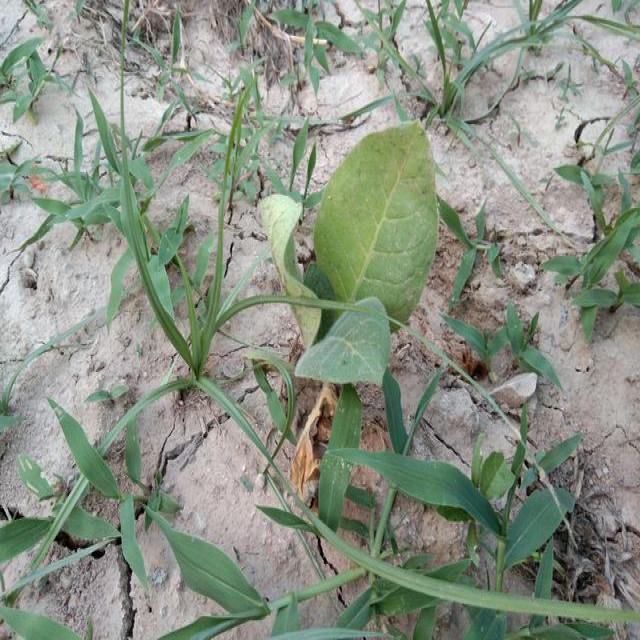crop: (261, 114, 445, 388)
